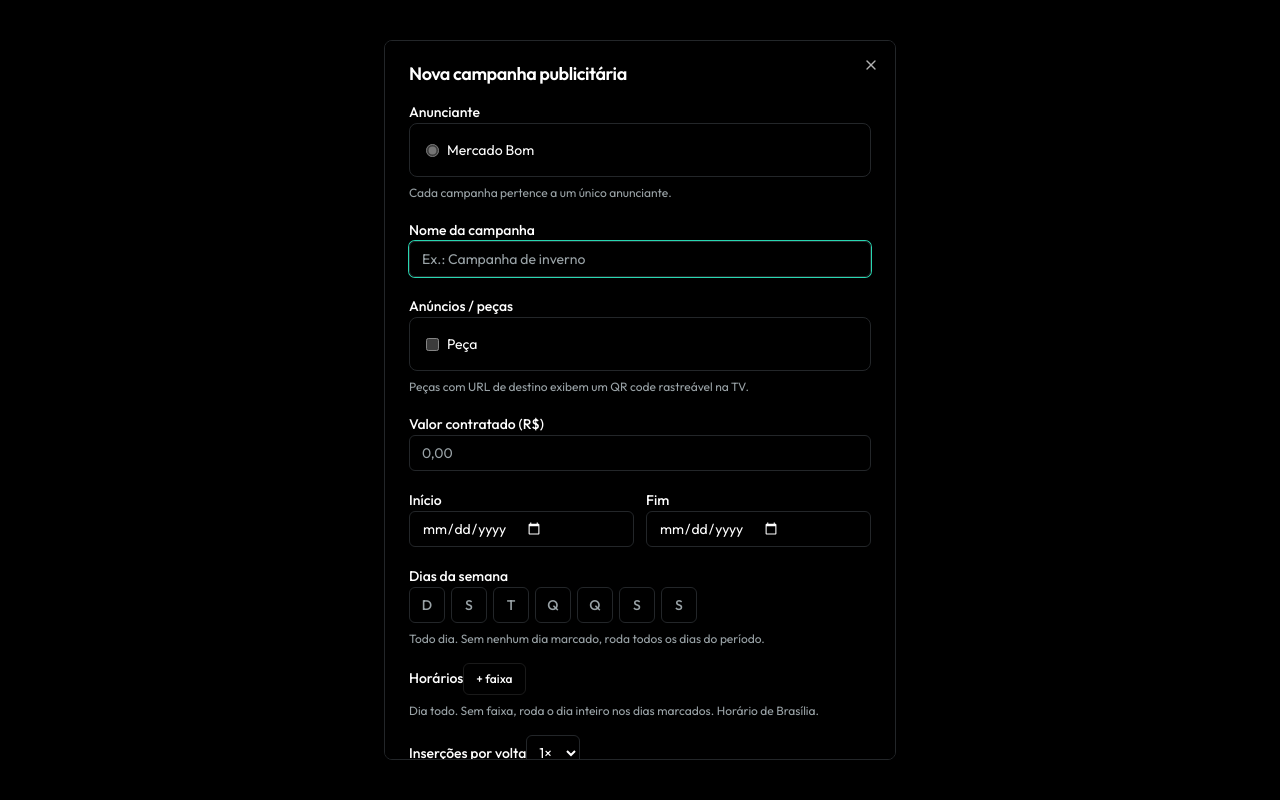
Test case: CampaignFormDialog › faixa com fim antes do início avisa e trava o publicar
Click the button "+ faixa".
click(494, 679)  # box [463,663,526,695]
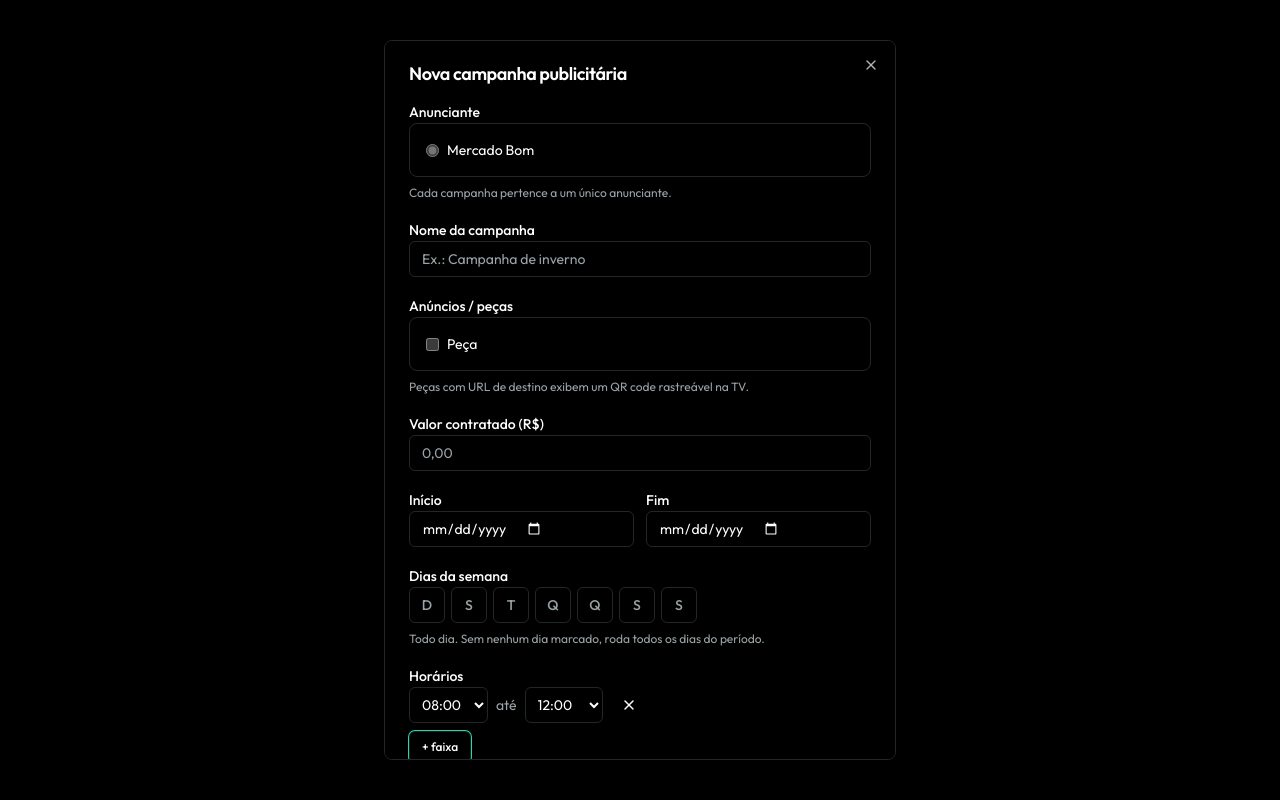
Select "08:00" in the dropdown named "Fim da faixa 1" at (564, 705), box [525,687,603,723]
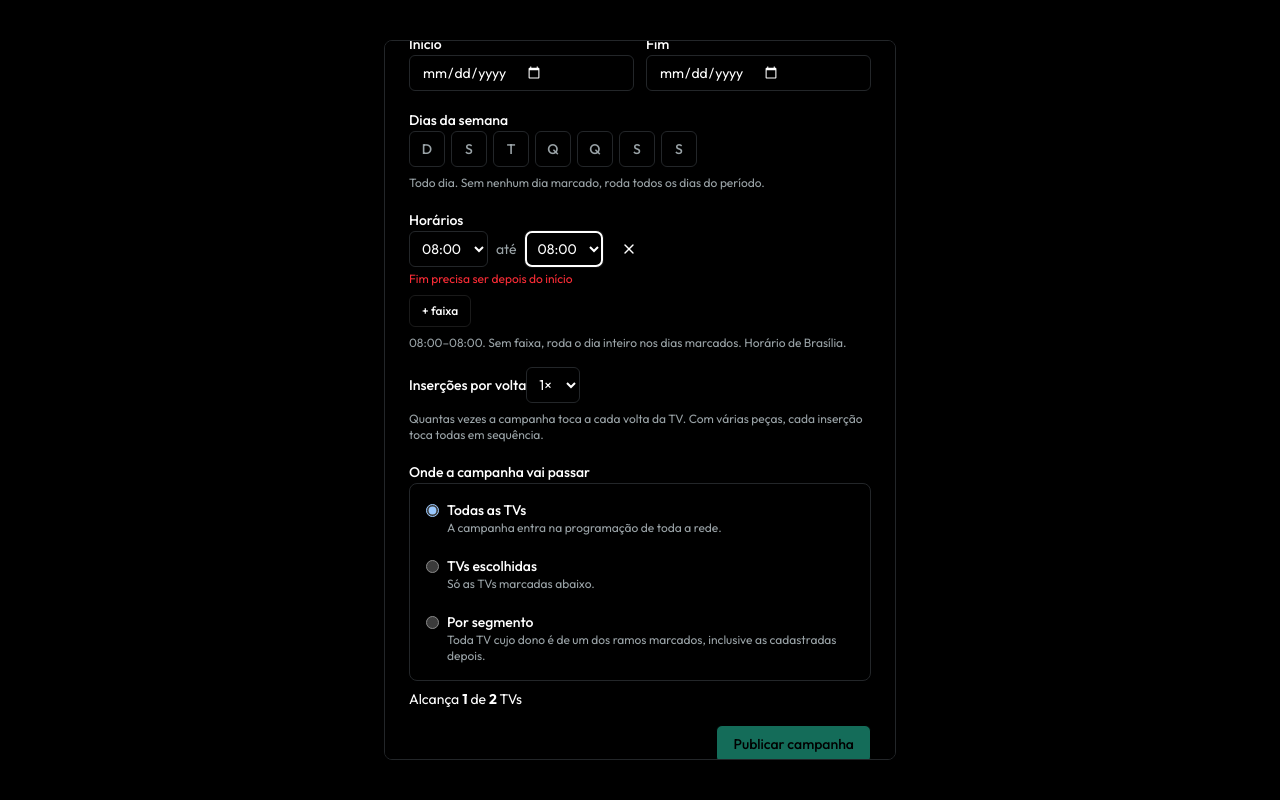
Expected: the text "Fim precisa ser depois do início" is shown, [409,271,573,286]
Expected: the button "Publicar campanha" is disabled, [716,725,871,760]
